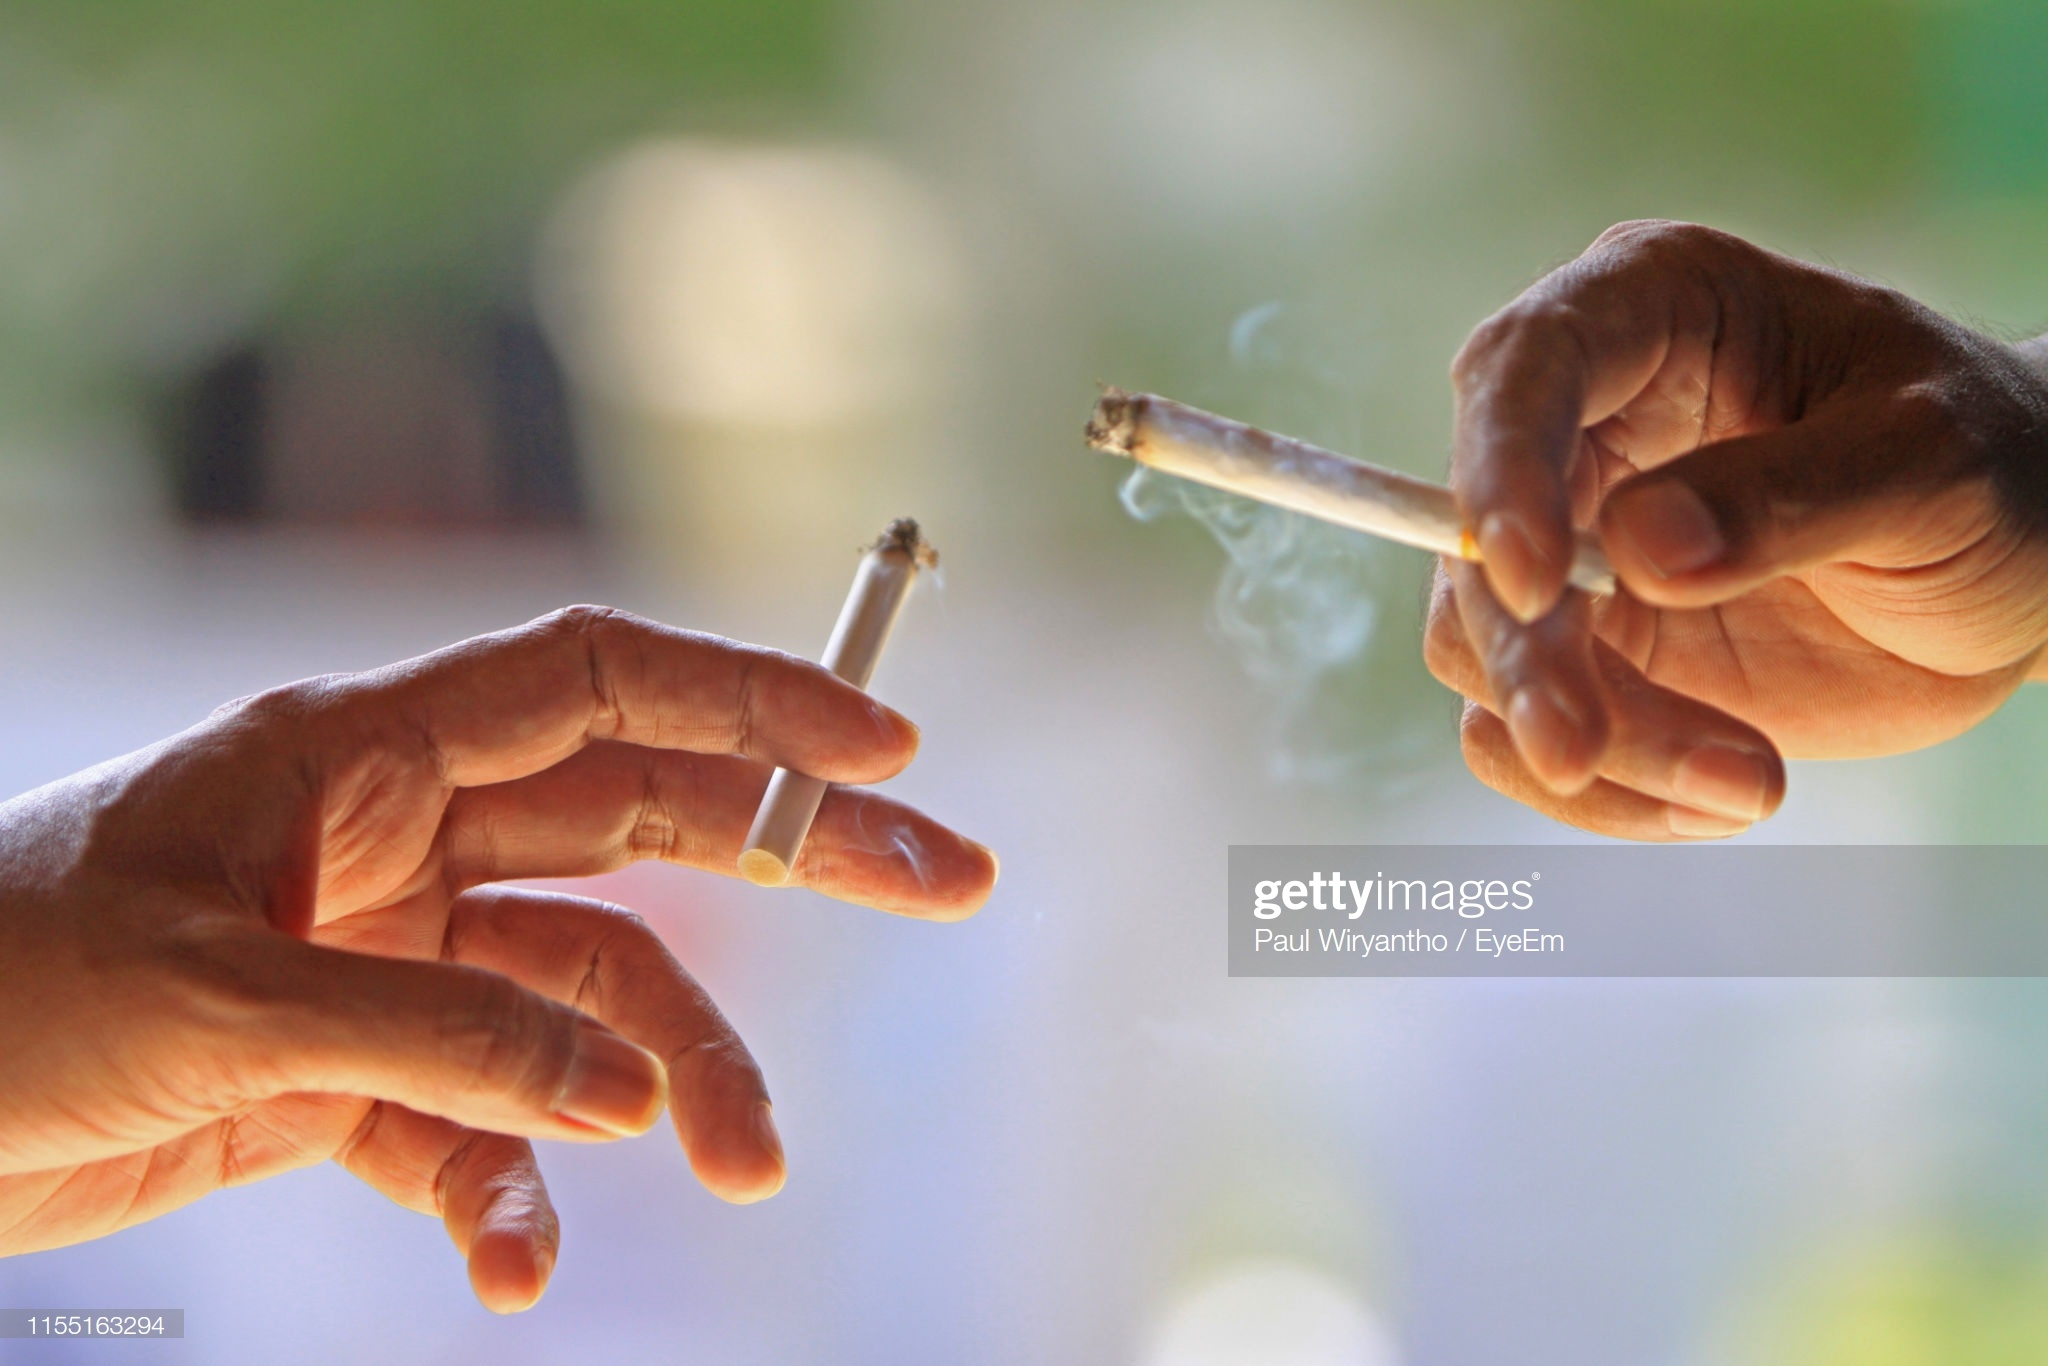sigaretta: (1067, 367, 1637, 584), (753, 521, 916, 890)
